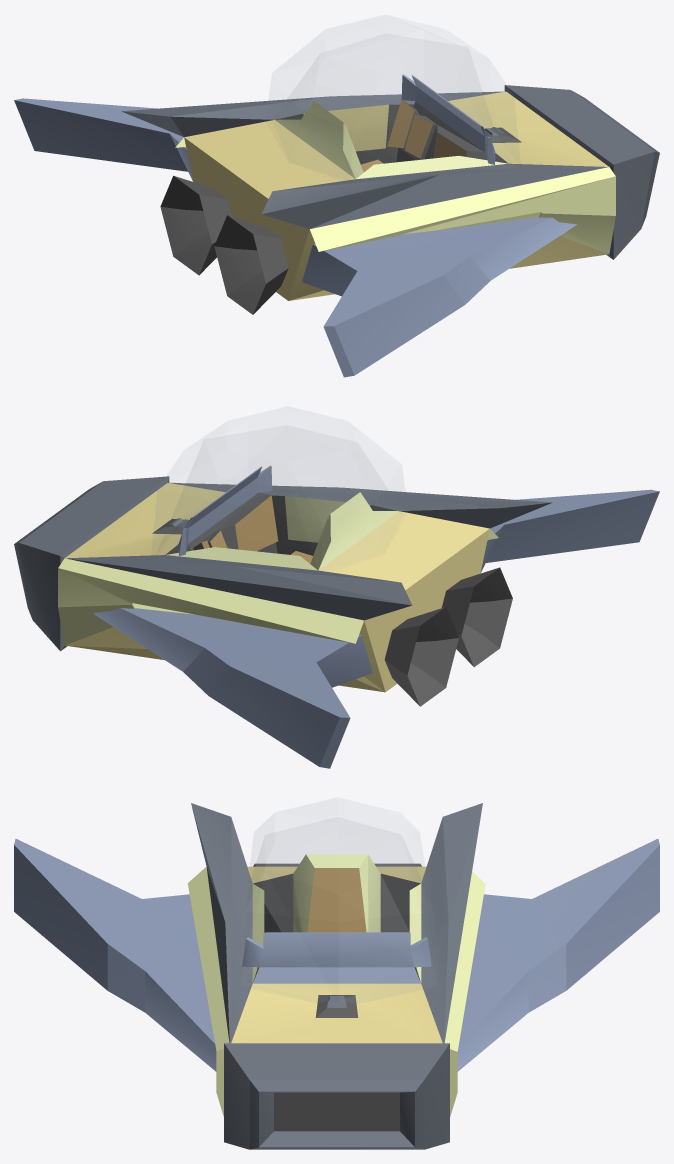
Rendered from ship_small.fbx.
The picture shows the model from 3 angles, top to bottom: view 1: azimuth 30°, elevation 25°; view 2: azimuth 150°, elevation 25°; view 3: azimuth 270°, elevation 25°; orthographic projection. The views are drawn at different scales.
Visible parts, largest first — view 1: ship_small, ship_small_wing, ship_small_glass, ship_small_part; view 2: ship_small, ship_small_wing, ship_small_glass, ship_small_part; view 3: ship_small, ship_small_wing, ship_small_glass.
Part boxes in pixels (bbox=[...]): ship_small: bbox=[121, 74, 659, 300]; ship_small_wing: bbox=[14, 98, 576, 377]; ship_small_glass: bbox=[273, 19, 494, 130]; ship_small_part: bbox=[160, 175, 288, 314]; ship_small: bbox=[14, 465, 552, 692]; ship_small_wing: bbox=[93, 489, 659, 768]; ship_small_glass: bbox=[156, 425, 400, 554]; ship_small_part: bbox=[384, 567, 512, 706]; ship_small: bbox=[187, 803, 485, 1149]; ship_small_wing: bbox=[14, 839, 659, 1071]; ship_small_glass: bbox=[251, 817, 421, 882].
Size of the model in its own units: 312 by 152 by 371.
